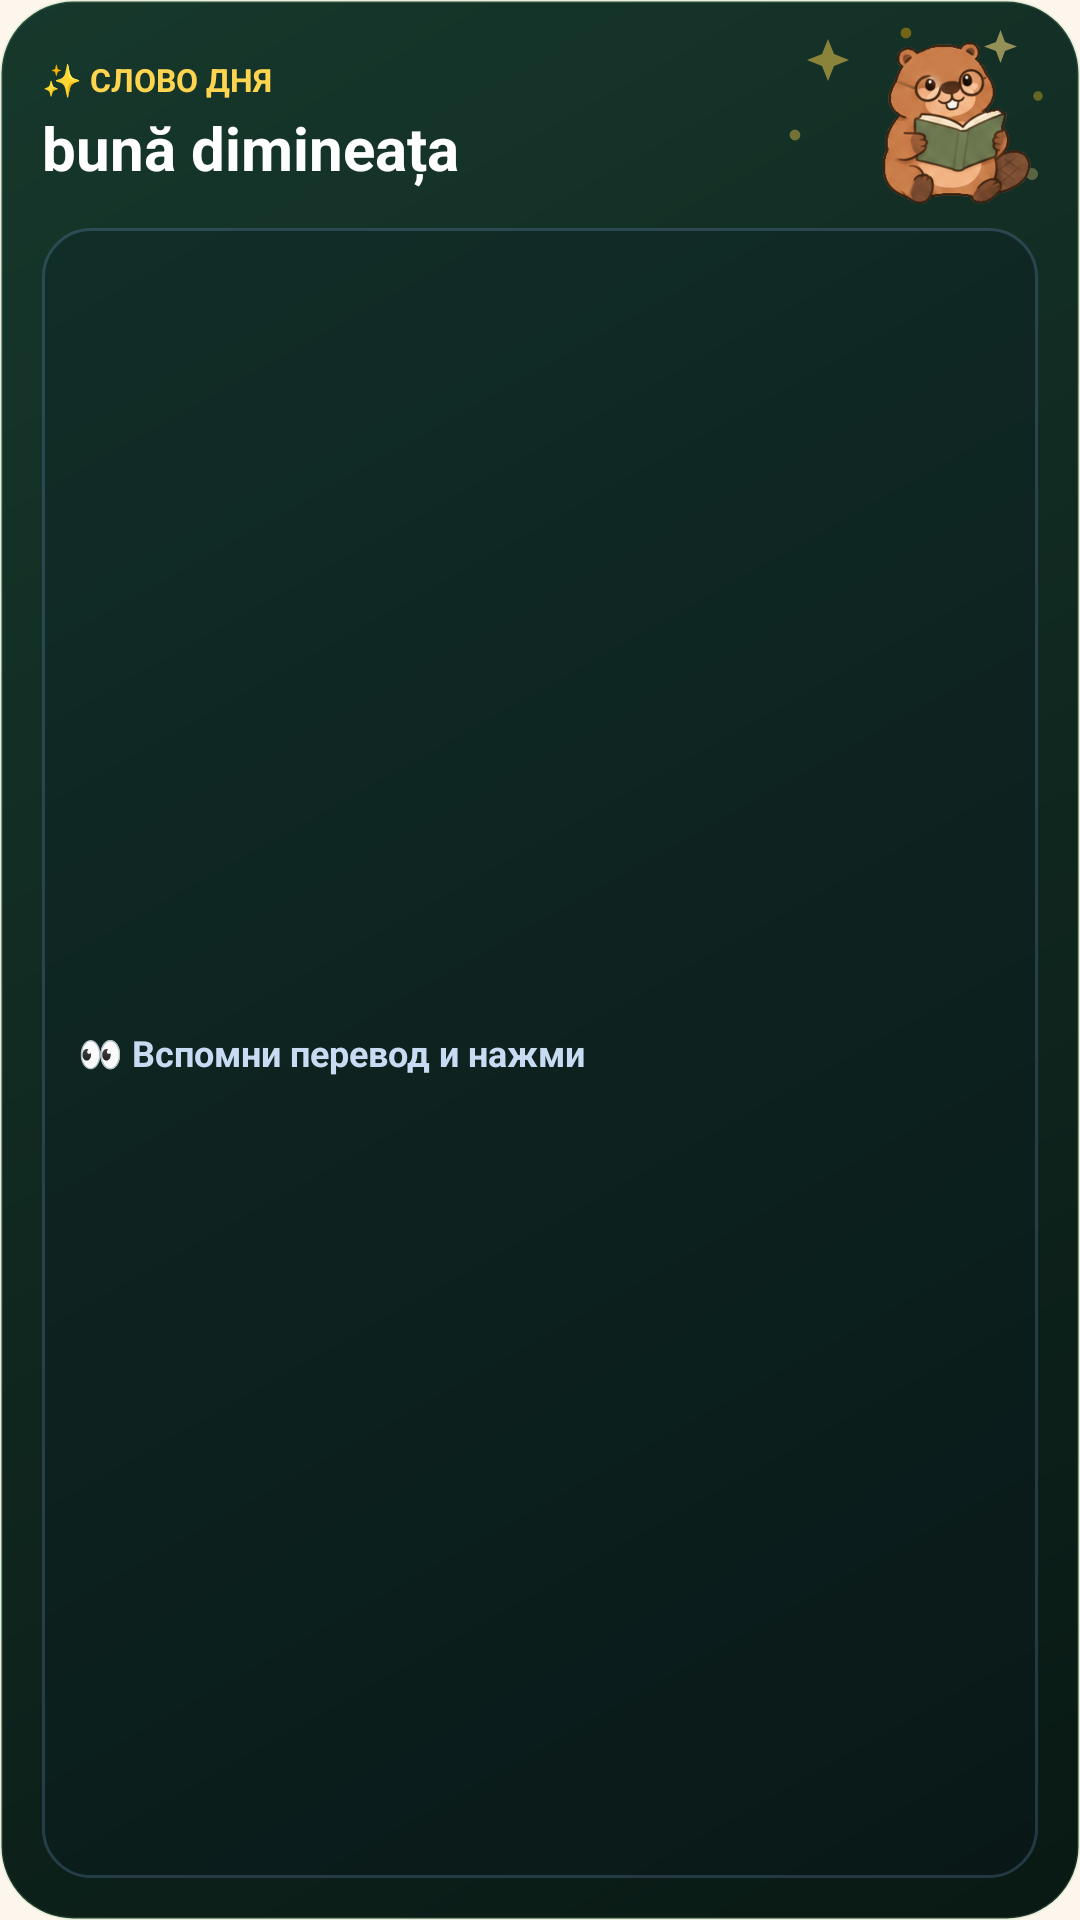

Point at icon controls on the screen. Image size 1080 × 1920, points as point (x, y).
Бобёр в очках с книгой: point (960, 123)
